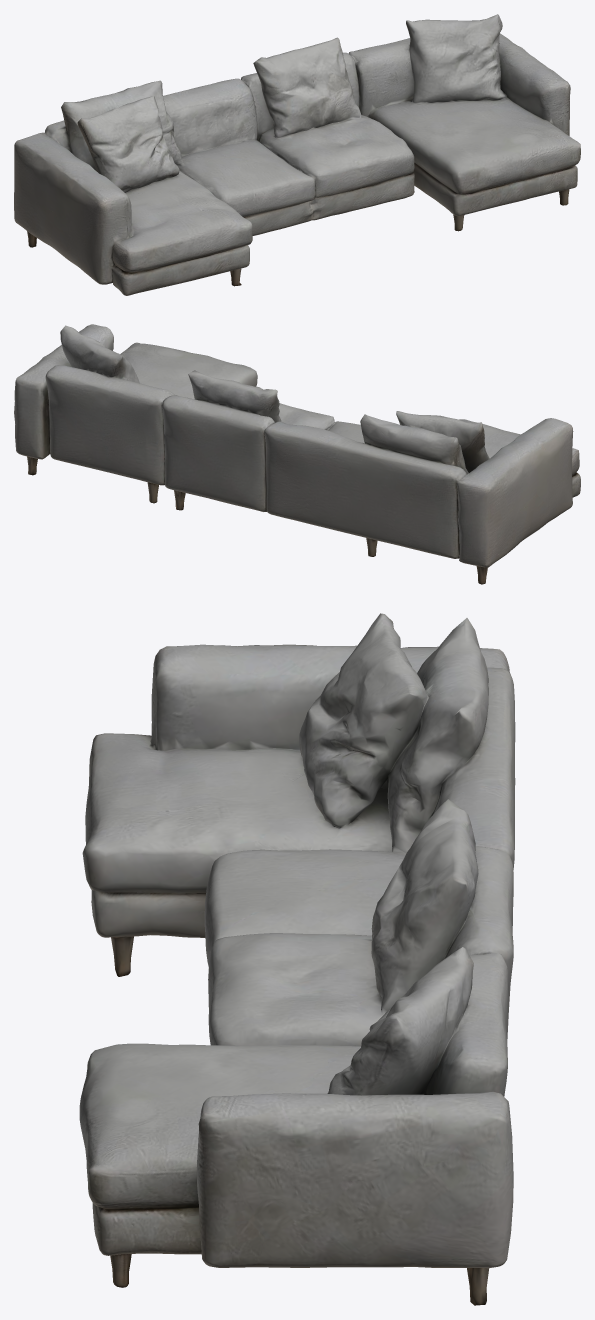
The model's file is sofa.glb.
3 views of the same model, one above another, from view 1: azimuth 30°, elevation 25°; view 2: azimuth 150°, elevation 25°; view 3: azimuth 270°, elevation 25° (orthographic). The views are drawn at different scales.
Visible parts, largest first — view 1: tripo_node_523120b0-d36f-49b2-b861-2a3cdb8da00f; view 2: tripo_node_523120b0-d36f-49b2-b861-2a3cdb8da00f; view 3: tripo_node_523120b0-d36f-49b2-b861-2a3cdb8da00f.
Part boxes in pixels (x1,y1,x2,y2): tripo_node_523120b0-d36f-49b2-b861-2a3cdb8da00f: (14, 14, 580, 295); tripo_node_523120b0-d36f-49b2-b861-2a3cdb8da00f: (14, 324, 580, 584); tripo_node_523120b0-d36f-49b2-b861-2a3cdb8da00f: (79, 613, 515, 1305).
Size of the model in its own units: 1 by 0.2731 by 0.3912.
1 material, 1 textured.
